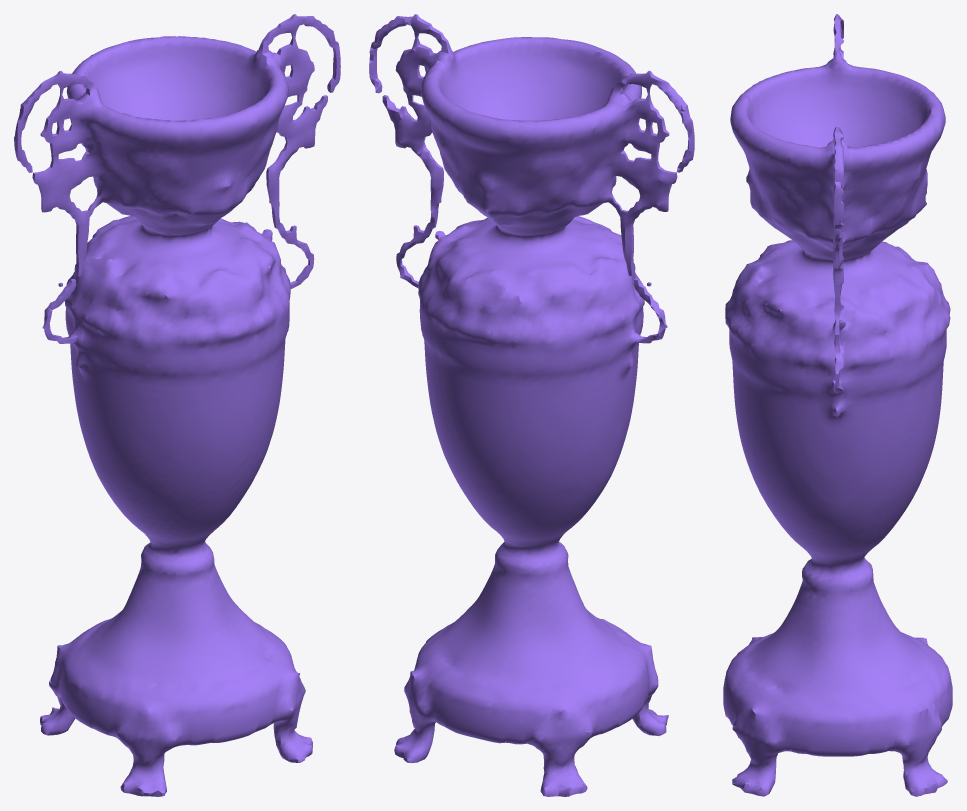
3 views of the same model, side by side, from view 1: azimuth 30°, elevation 25°; view 2: azimuth 150°, elevation 25°; view 3: azimuth 270°, elevation 25° (orthographic). The views are drawn at different scales.
Parts seen in each view (by area): view 1: Object_2; view 2: Object_2; view 3: Object_2.
Part boxes in pixels (bbox=[...]): Object_2: bbox=[14, 14, 340, 796]; Object_2: bbox=[369, 14, 694, 796]; Object_2: bbox=[723, 14, 952, 796].
Bounding box in the file's own units: 0.4829 × 1 × 0.3047.
